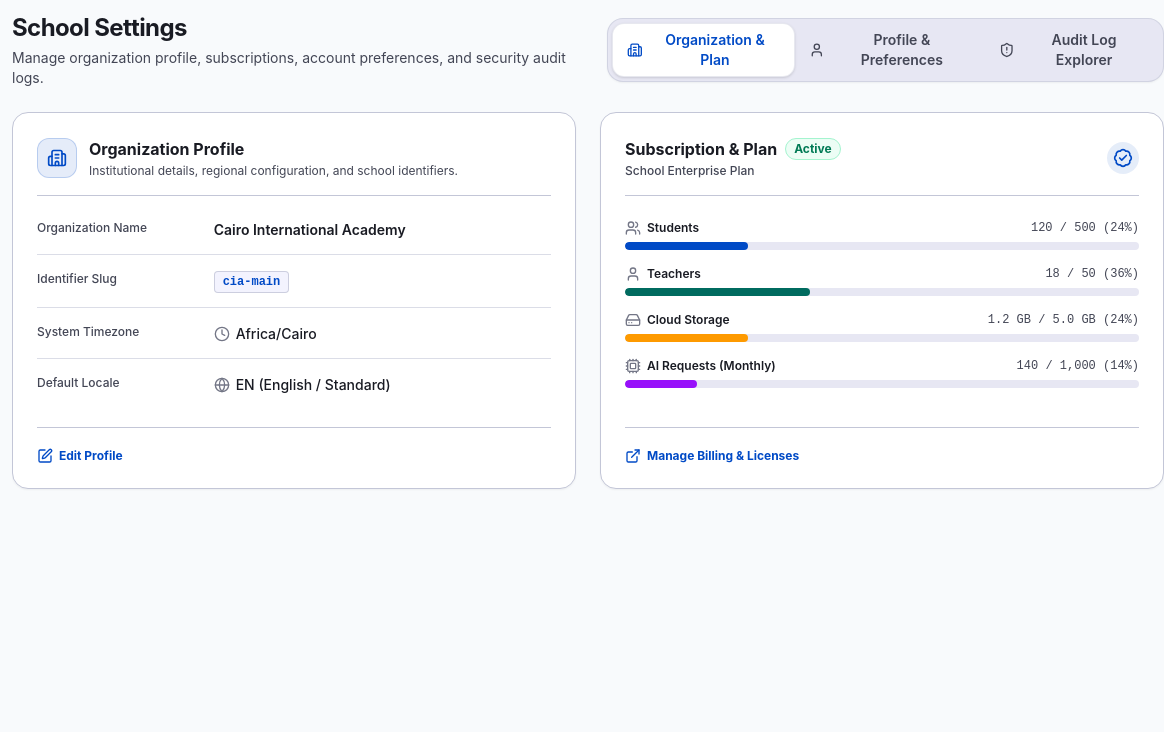
Test: SettingsPage (Org Settings, Profile & Audit Log Stitch Clone) › switches to Profile & Preferences tab and updates personal information
Click the button "Profile & Preferences" at (890, 50), box [795,23,985,77]
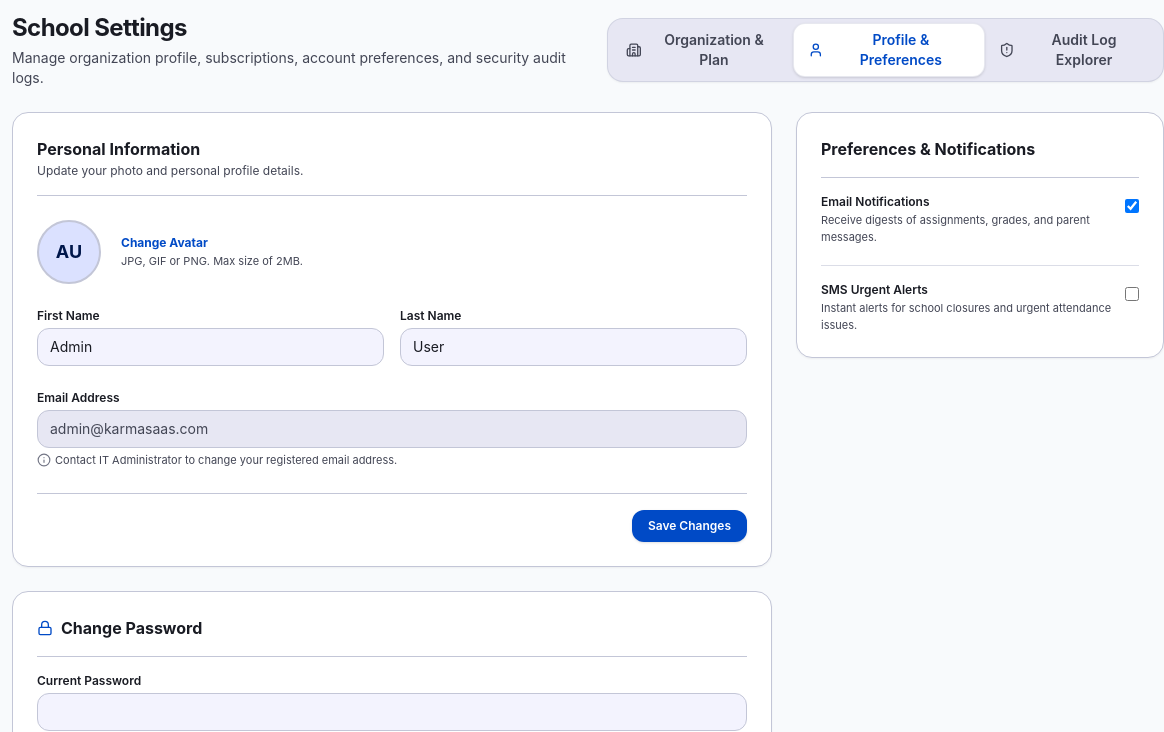
Now the heading "Personal Information" is shown, box [37,139,200,159]
Now the heading "Preferences & Notifications" is shown, box [821,139,1035,159]
Now the 3rd field showing "admin@karmasaas.com" is disabled, box [37,410,747,448]
Save changes
Click the button "Save Changes" at (689, 526), box [632,510,747,542]
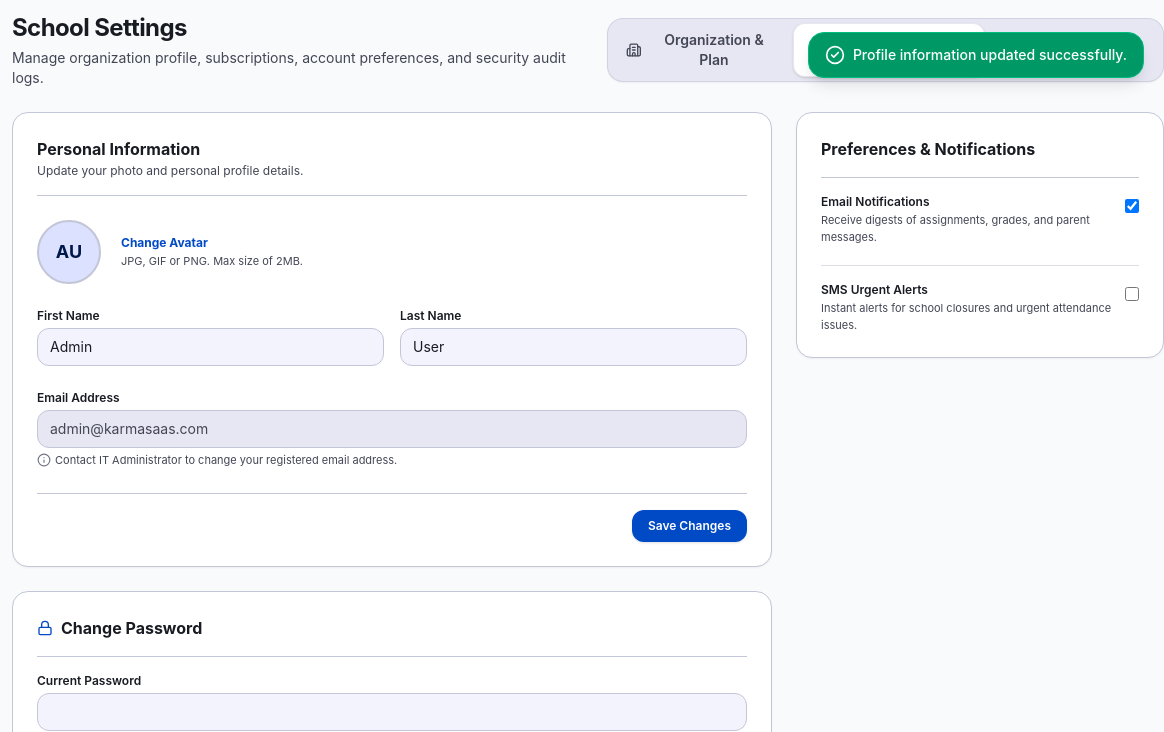
Now the text "Profile information updated successfully." is shown, box [853,45,1127,65]
